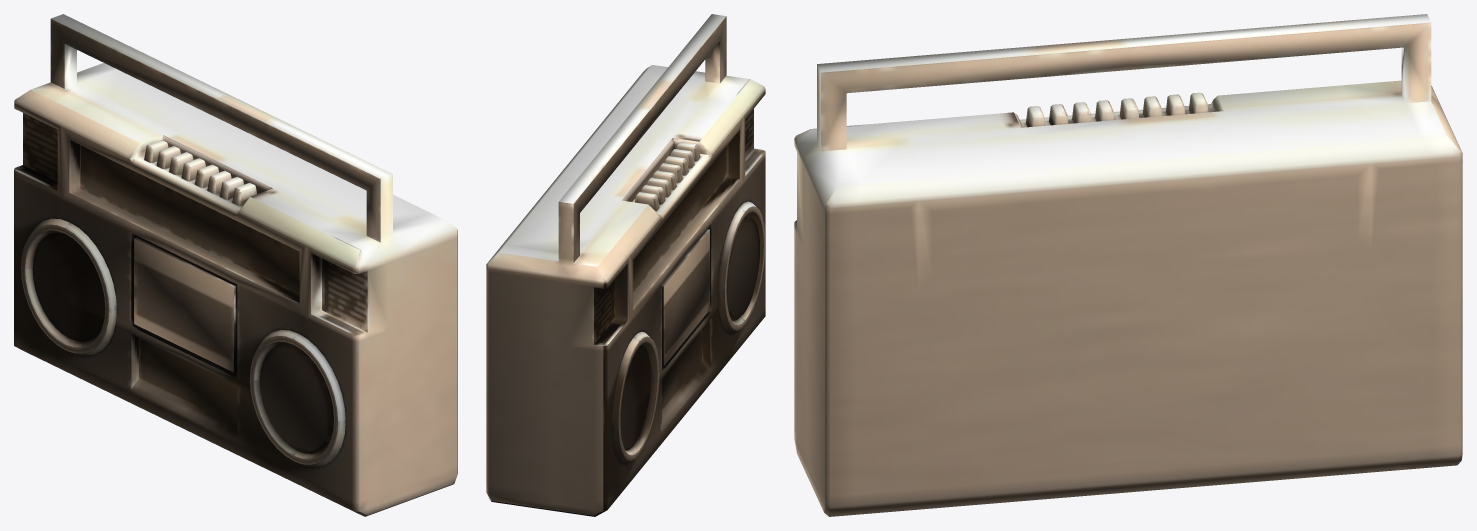
Rendered from radio.dae.
3 views of the same model, side by side, from view 1: azimuth 30°, elevation 25°; view 2: azimuth 150°, elevation 25°; view 3: azimuth 270°, elevation 25° (orthographic). The views are drawn at different scales.
Visible parts, largest first — view 1: RadioLP; view 2: RadioLP; view 3: RadioLP.
Part boxes in pixels (x1,y1,x2,y2): RadioLP: (14, 14, 457, 516); RadioLP: (486, 14, 765, 516); RadioLP: (794, 14, 1462, 516).
Bounding box in the file's own units: 0.2133 × 0.487 × 0.3262.
Materials: 1 (1 with a texture image).
